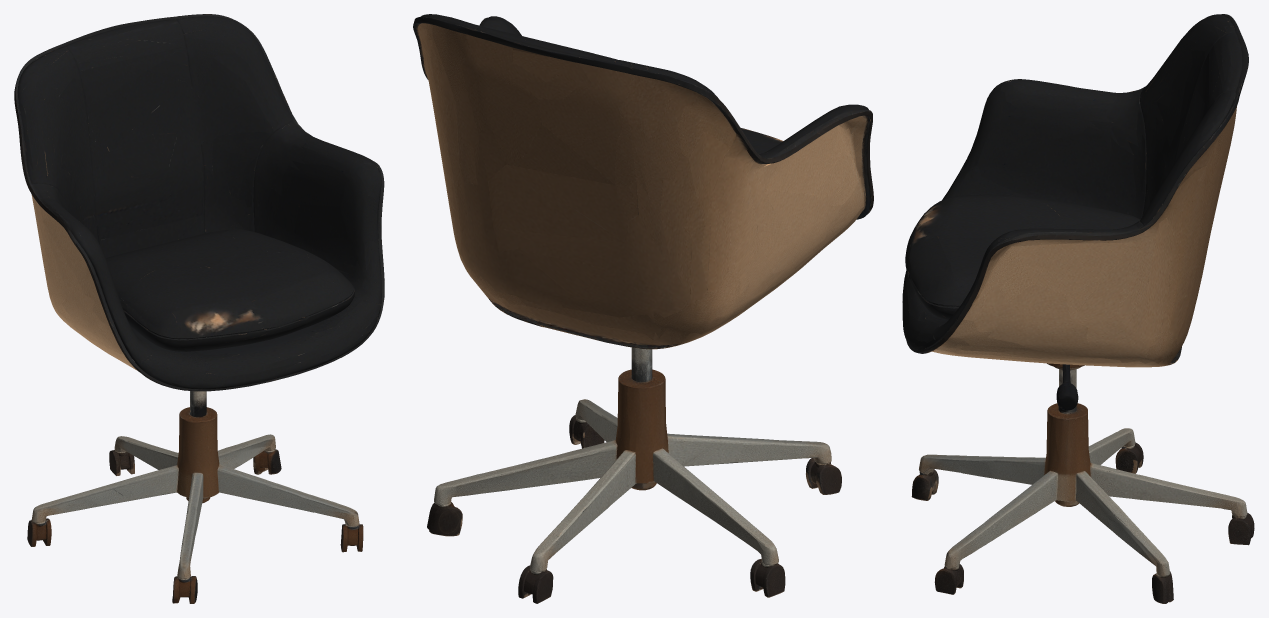
Rendered from sedia.glb.
The picture shows the model from 3 angles, left to right: view 1: azimuth 30°, elevation 25°; view 2: azimuth 150°, elevation 25°; view 3: azimuth 270°, elevation 25°; orthographic projection. The views are drawn at different scales.
Size of the model in its own units: 1.37 by 1.9 by 1.27.
1 material, 1 textured.
